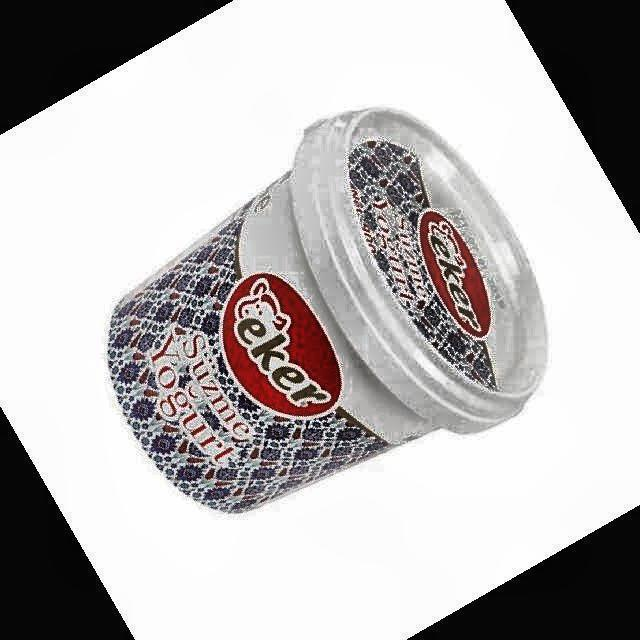plastic: (108, 109, 546, 512)
